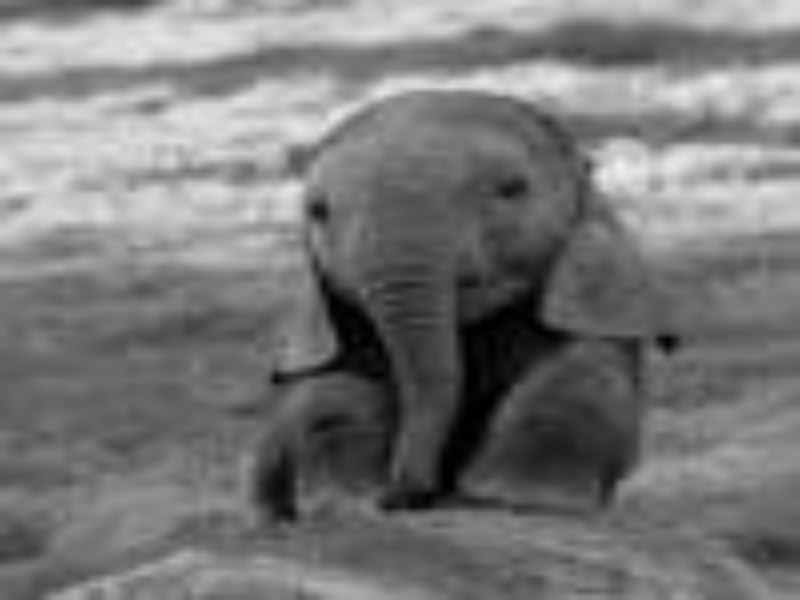elephant: (216, 71, 692, 561)
